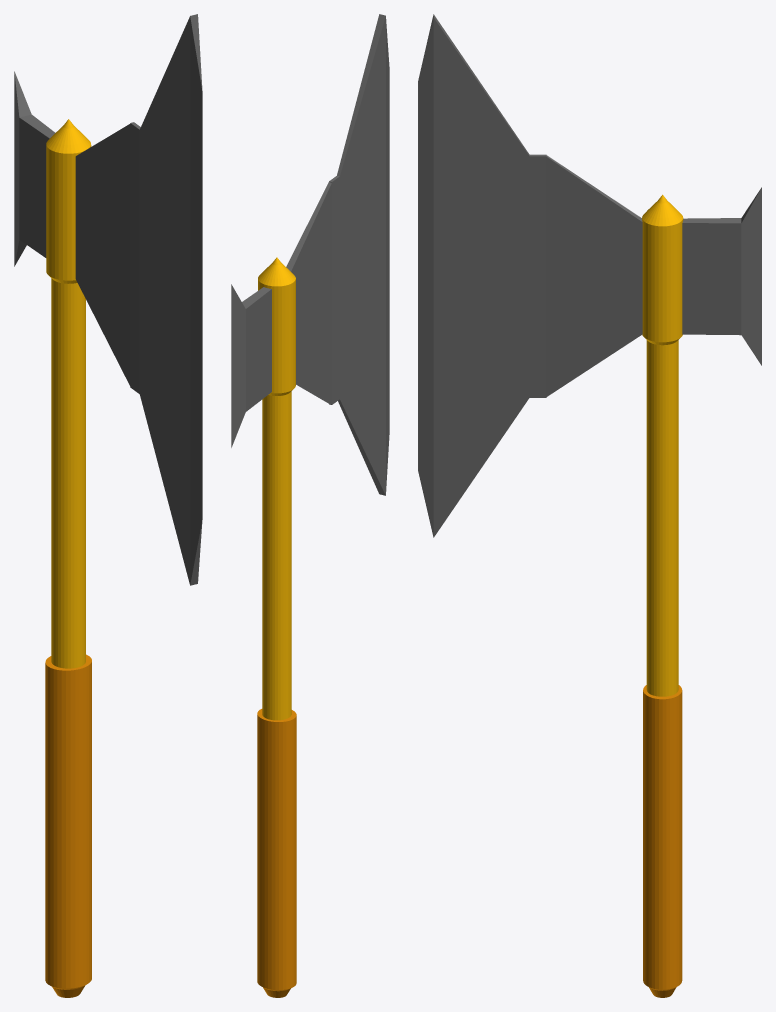
File: waraxe.fbx
3 renders of one model, left to right at view 1: azimuth 30°, elevation 25°; view 2: azimuth 150°, elevation 25°; view 3: azimuth 270°, elevation 25°, orthographic. The views are drawn at different scales.
Parts seen in each view (by area): view 1: Blade, Base, Handle; view 2: Blade, Base, Handle; view 3: Blade, Base, Handle.
Boxes of the visible parts, left/top/right/bottom form: Blade: left=14, top=14, right=202, bottom=585; Base: left=46, top=119, right=91, bottom=668; Handle: left=45, top=654, right=91, bottom=997; Blade: left=231, top=14, right=389, bottom=495; Base: left=258, top=257, right=295, bottom=720; Handle: left=257, top=709, right=296, bottom=997; Blade: left=418, top=14, right=761, bottom=537; Base: left=642, top=194, right=683, bottom=696; Handle: left=643, top=685, right=682, bottom=997.
Bounding box in the file's own units: 18.53 × 457 × 146.
